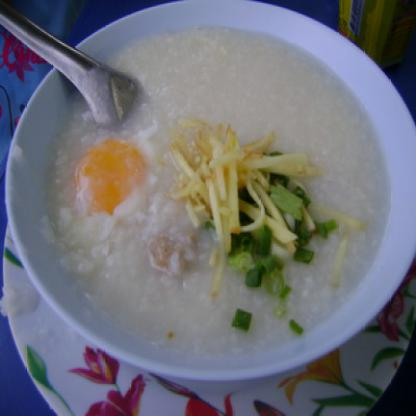Joke: (26, 1, 394, 364)
